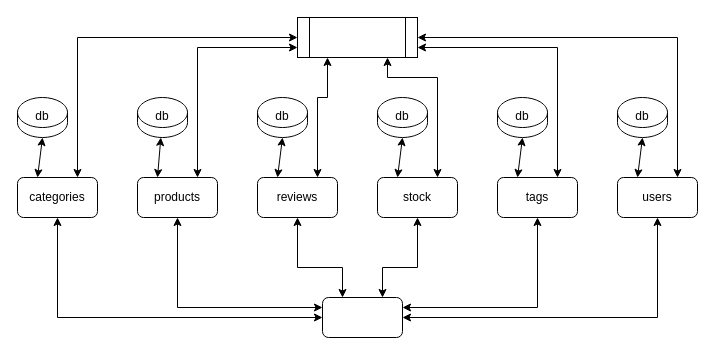
Image size: 715x355. Some labels were removed from this diagram. The shapes that lost their labels are listed below. From the top down, each one's centre as x and y in pixels, then its label:
(x=357, y=37): pubsub
(x=362, y=317): gateway
